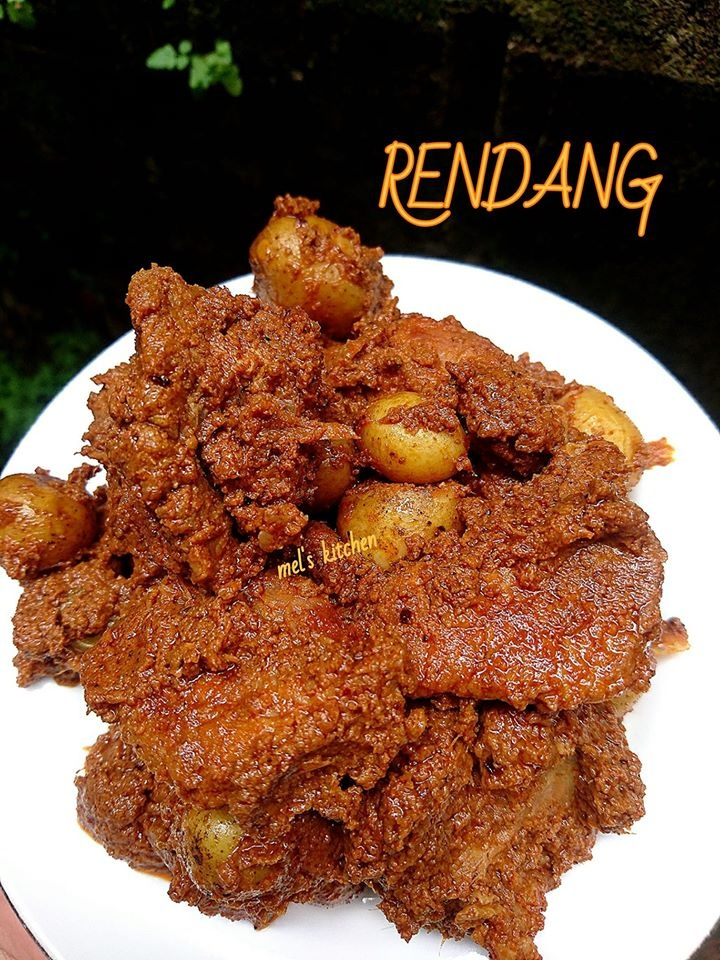rendang: (42, 306, 672, 927)
